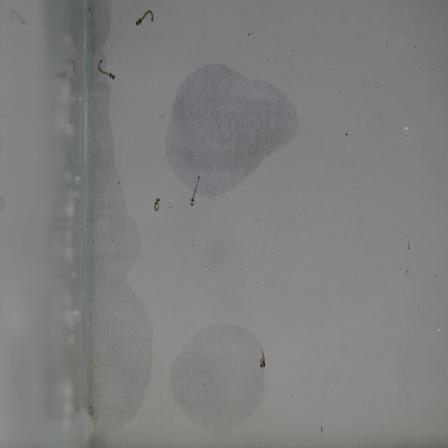Jentik-Nyamuk: (186, 173, 206, 211), (94, 55, 118, 83), (131, 5, 157, 29), (255, 345, 271, 373), (147, 194, 164, 213)
